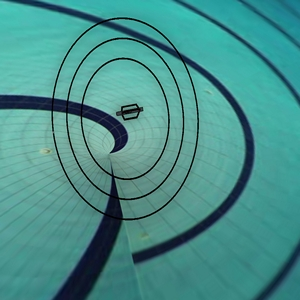circle: (46, 3, 212, 241)
submarine: (109, 94, 154, 128)
